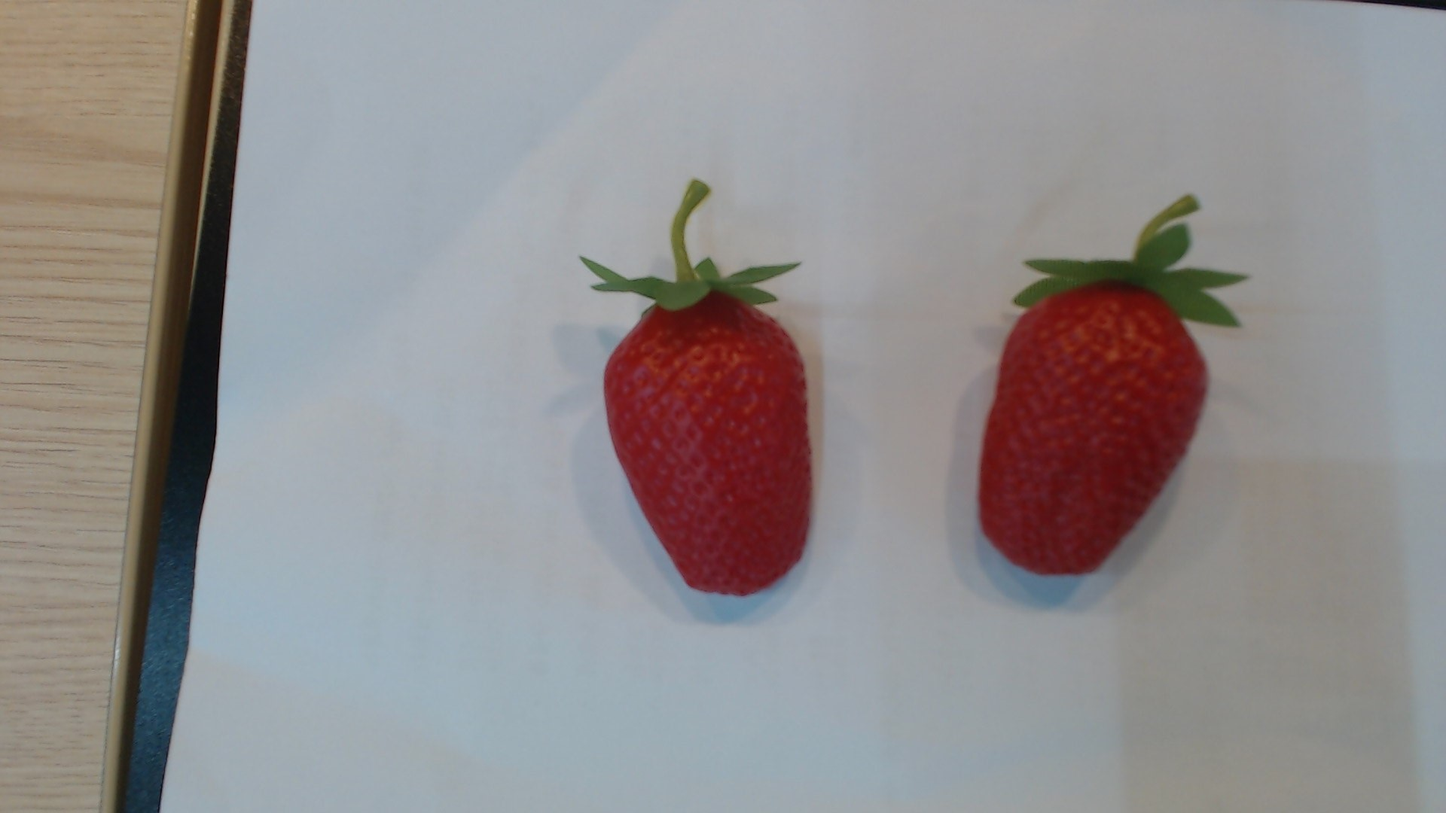strawberry: (966, 260, 1216, 583), (599, 292, 825, 603)
